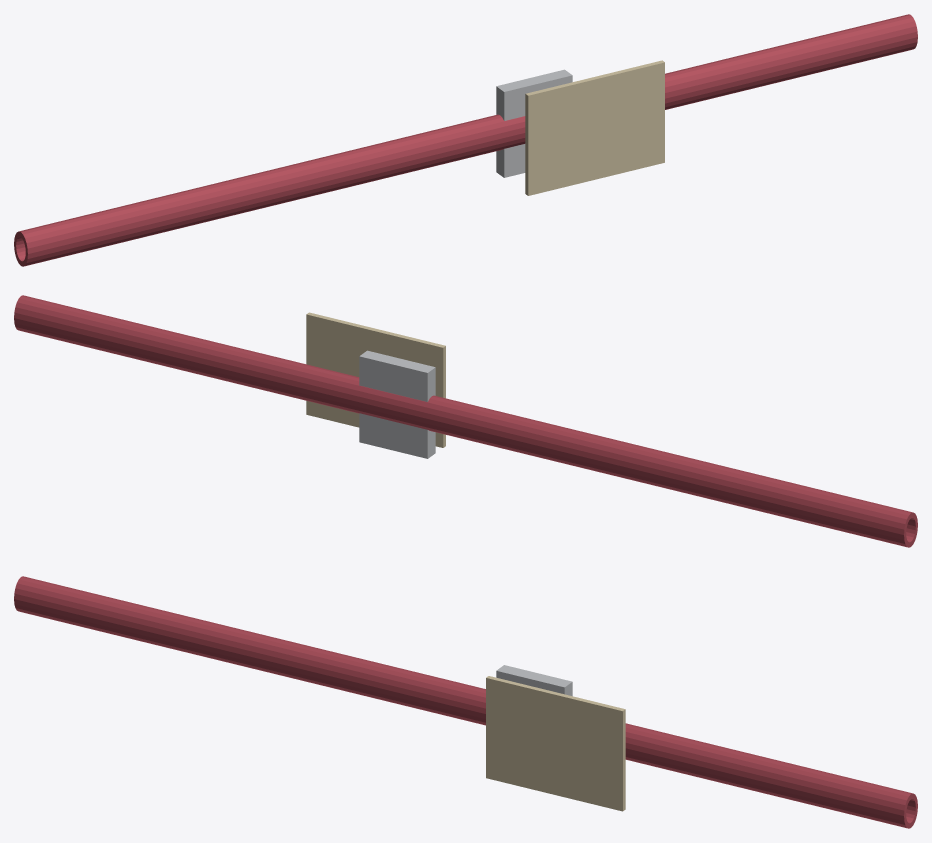
Rendered from dranmar_rescue_vessel_clipped_patched.glb.
3 renders of one model, top to bottom at view 1: azimuth 30°, elevation 25°; view 2: azimuth 150°, elevation 25°; view 3: azimuth 330°, elevation 25°, orthographic.
Visible parts, largest first — view 1: Vessel, Patch, Clip; view 2: Vessel, Patch, Clip; view 3: Vessel, Patch, Clip.
Part boxes in pixels (x1,y1,x2,y2): Vessel: (14,14,917,266); Patch: (525,60,664,195); Clip: (496,69,572,177); Vessel: (14,295,917,547); Patch: (306,312,445,447); Clip: (359,350,435,458); Vessel: (14,576,917,828); Patch: (486,676,625,811); Clip: (496,665,572,696).
Bounding box in the file's own units: 0.13 × 0.014 × 0.00711.
